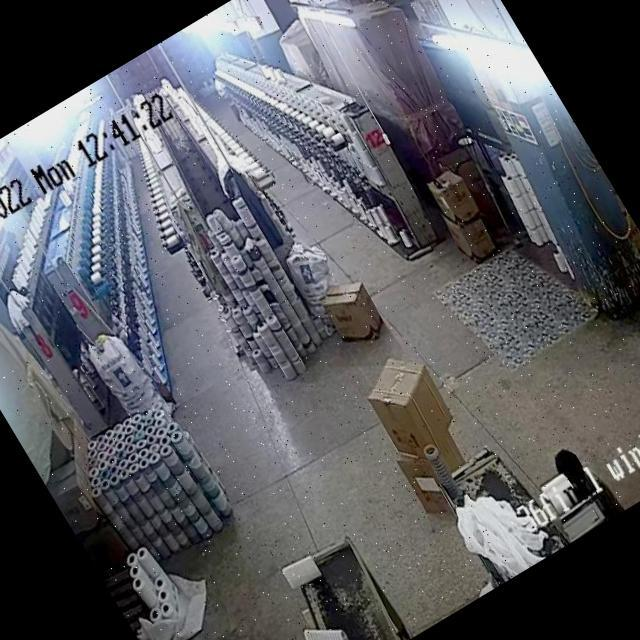person: (550, 434, 622, 528)
